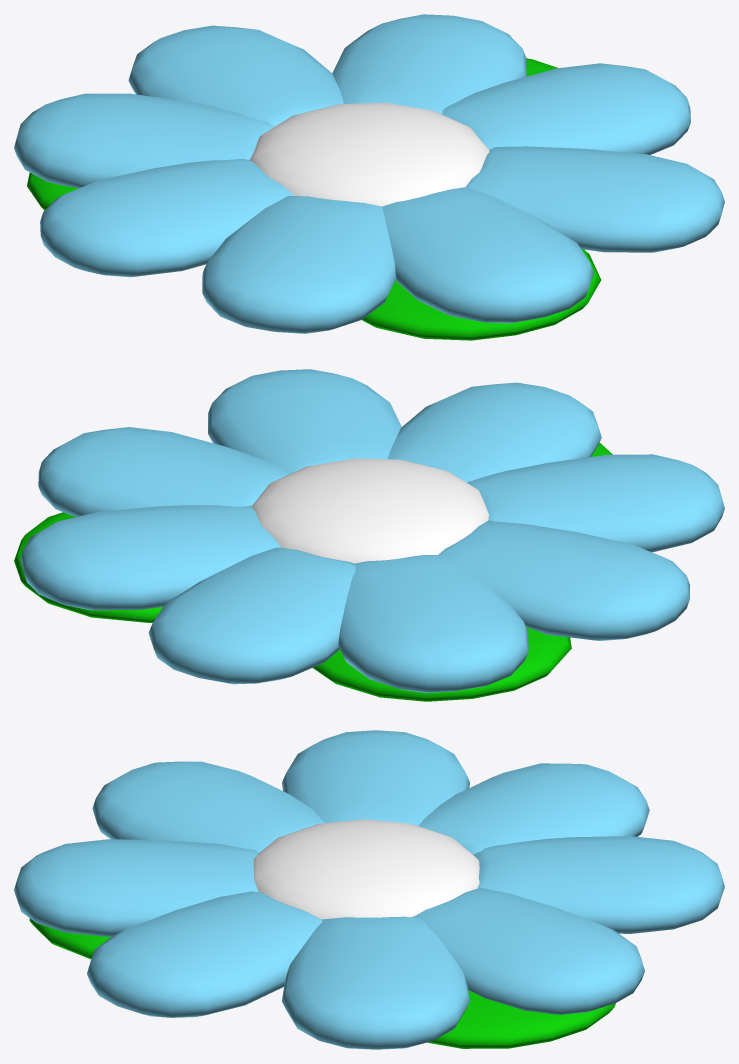
The model's file is FlowerBooster.fbx.
3 views of the same model, one above another, from view 1: azimuth 30°, elevation 25°; view 2: azimuth 150°, elevation 25°; view 3: azimuth 270°, elevation 25° (orthographic). The views are drawn at different scales.
Parts seen in each view (by area): view 1: FlowerBooster2, FlowerBooster1; view 2: FlowerBooster2, FlowerBooster1; view 3: FlowerBooster2, FlowerBooster1.
Part boxes in pixels (<box>): FlowerBooster2: <box>14,14,724,333</box>; FlowerBooster1: <box>27,58,601,340</box>; FlowerBooster2: <box>20,369,724,692</box>; FlowerBooster1: <box>14,442,612,701</box>; FlowerBooster2: <box>14,730,724,1049</box>; FlowerBooster1: <box>29,918,615,1048</box>.
Size of the model in its own units: 2.01 by 0.2451 by 2.02.
1 material, 1 textured.
